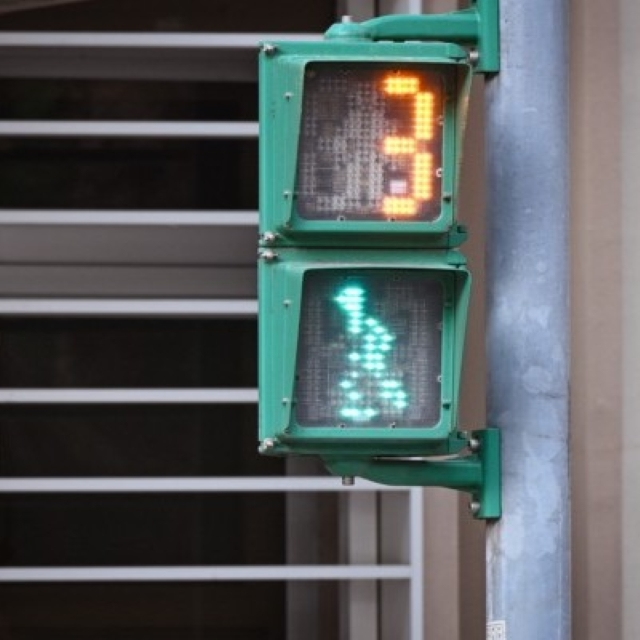green_light: (257, 43, 468, 456)
